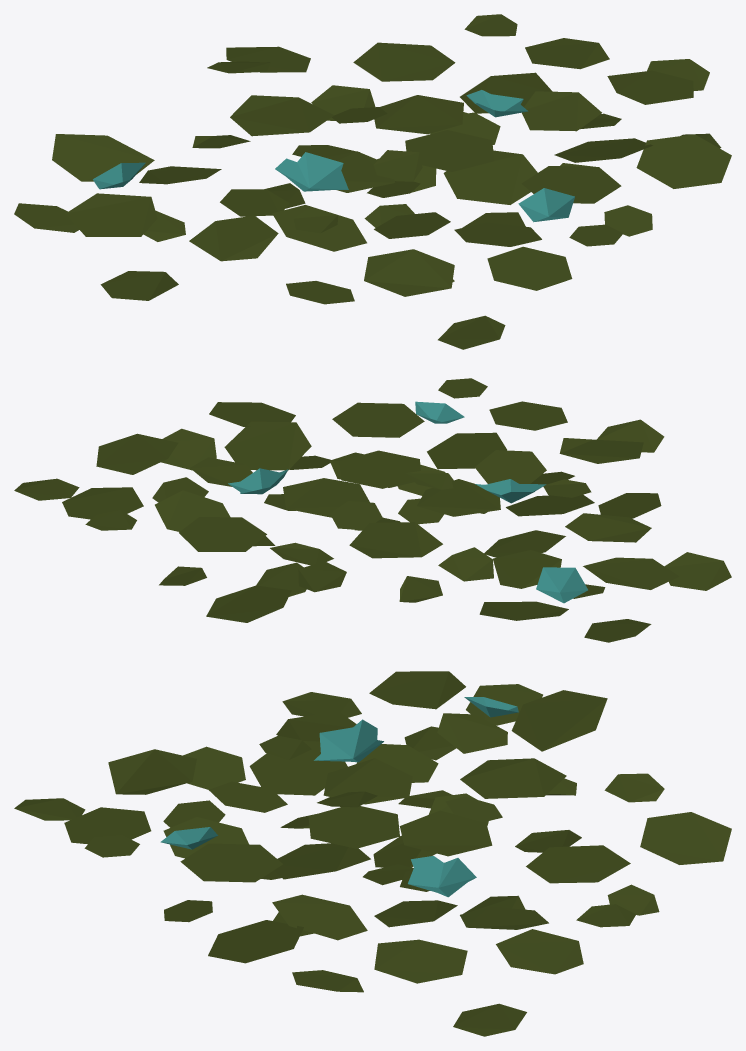
File: SM_Plant_Shamrock_B.fbx
The picture shows the model from 3 angles, top to bottom: view 1: azimuth 30°, elevation 25°; view 2: azimuth 150°, elevation 25°; view 3: azimuth 270°, elevation 25°; orthographic projection. The views are drawn at different scales.
Visible parts, largest first — view 1: plant-shamrock-b; view 2: plant-shamrock-b; view 3: plant-shamrock-b.
Part boxes in pixels (box(x1,y1,x2,y2)): plant-shamrock-b: box(14, 14, 731, 349); plant-shamrock-b: box(14, 378, 731, 642); plant-shamrock-b: box(14, 671, 731, 1036).
Size of the model in its own units: 0.7874 by 0.0797 by 0.6986.
